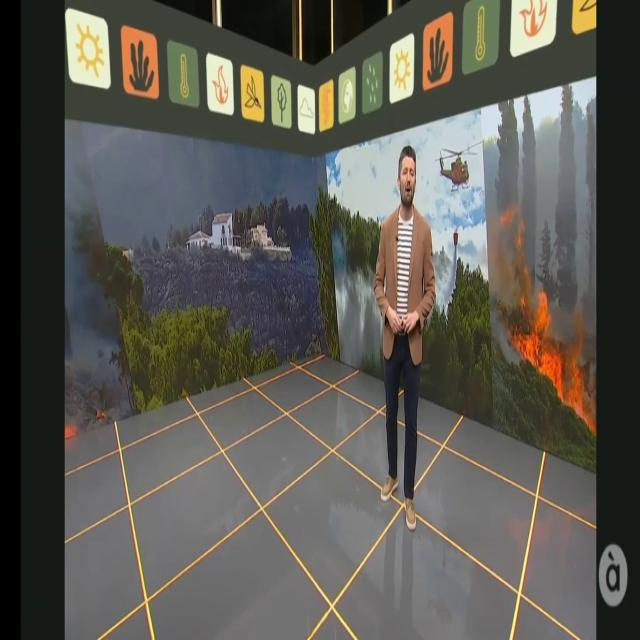Fire: (518, 287, 594, 424)
Smoke: (490, 87, 596, 345), (64, 125, 127, 402), (332, 226, 384, 373)
